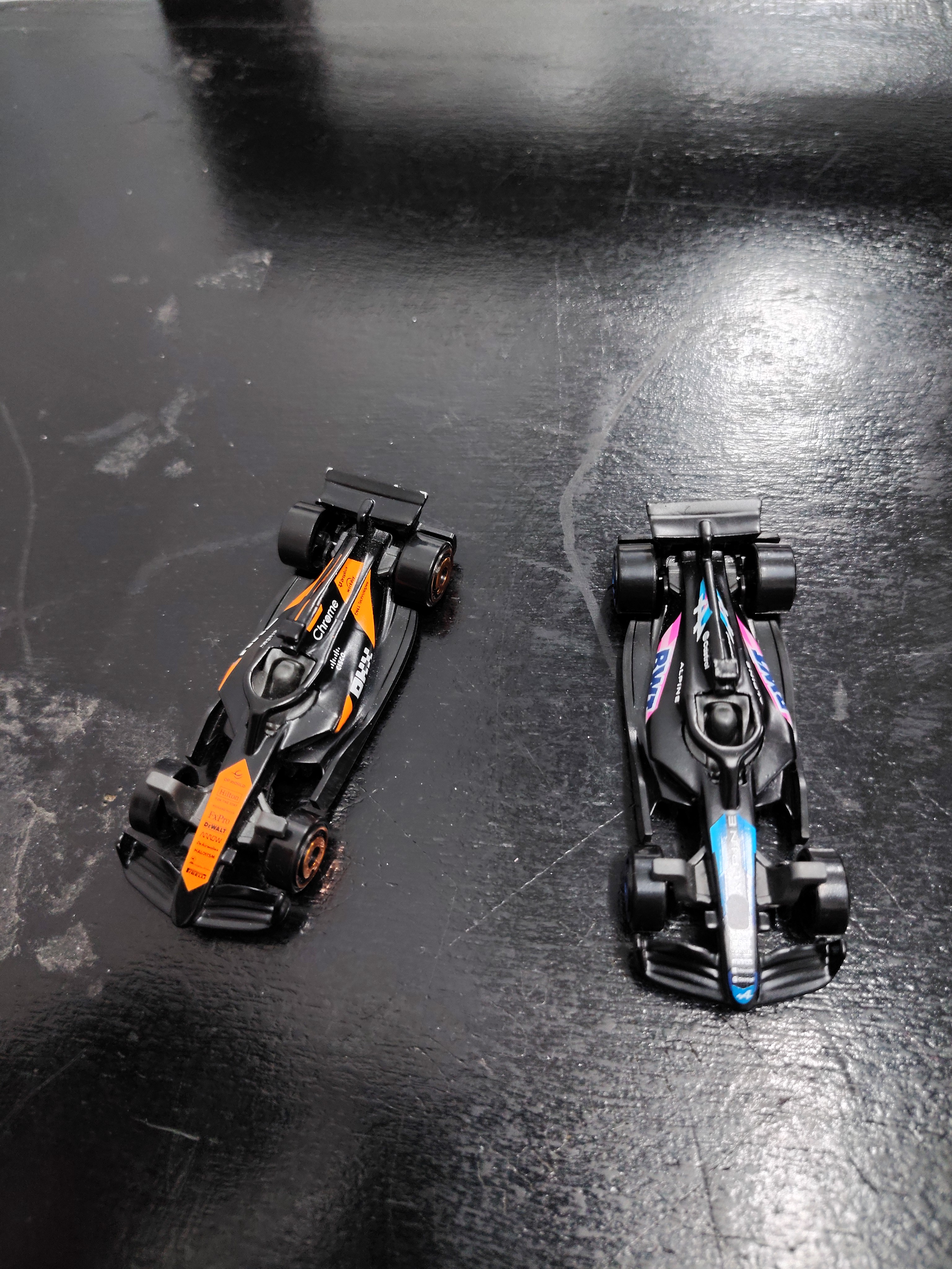Alpine A524: (549, 373, 877, 1146)
McLaren MCL40: (65, 373, 499, 974)
